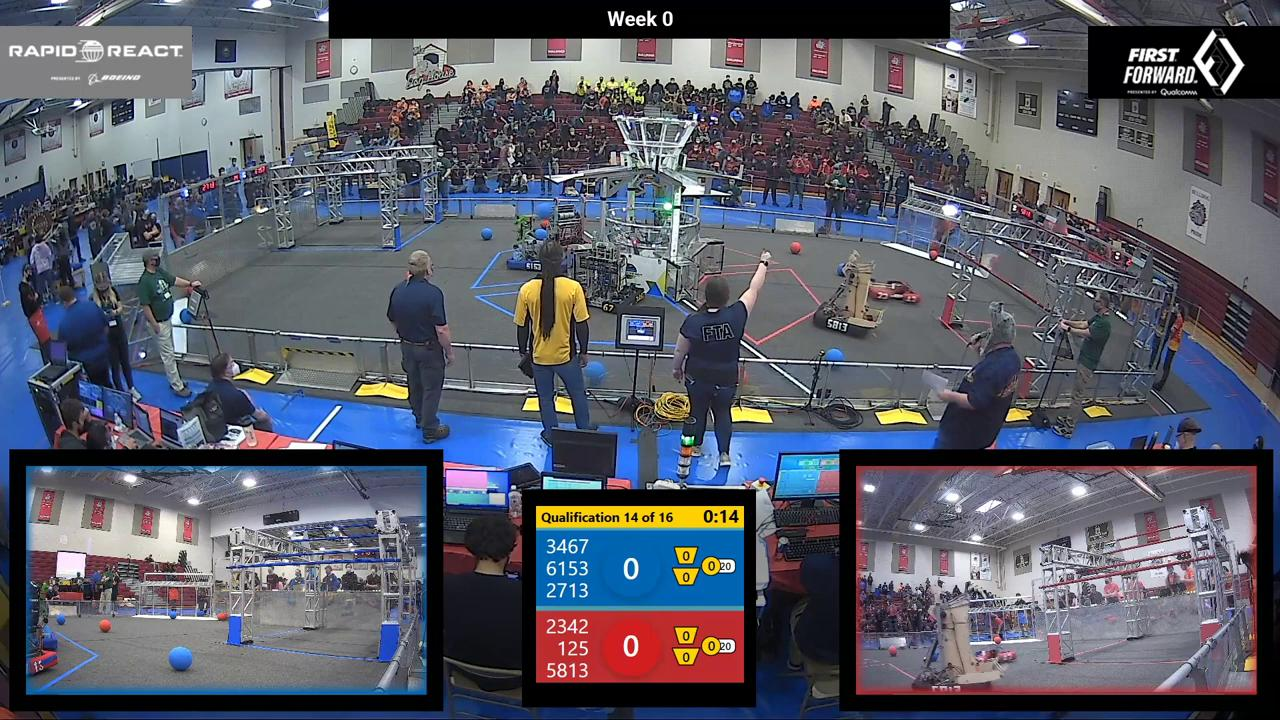robot: (913, 600, 993, 691), (812, 263, 881, 335), (28, 581, 56, 678), (869, 272, 923, 304), (971, 643, 1013, 665), (40, 625, 59, 650)
